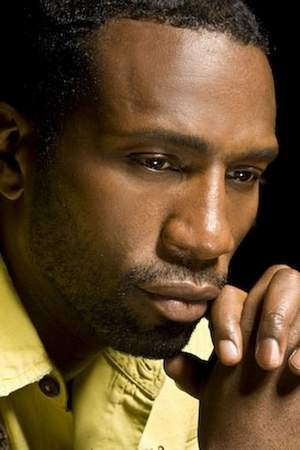bad: (52, 82, 300, 350)
